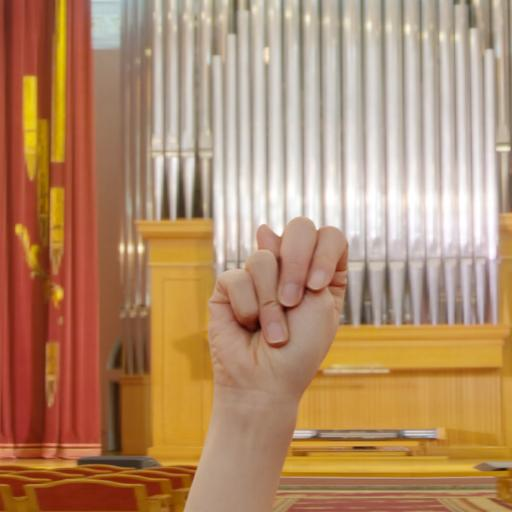N: (185, 205, 365, 419)
